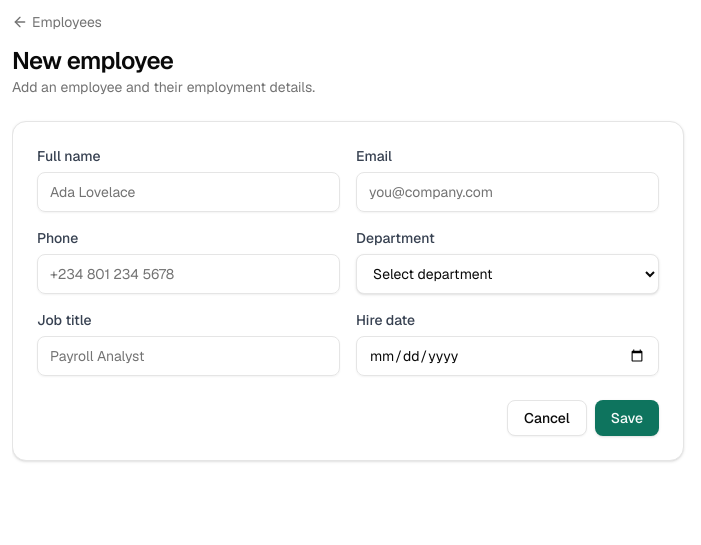
Scenario: new employee form › shows inline errors on an empty submit
Click the button "Save": {"x": 627, "y": 418} [595,400,659,436]
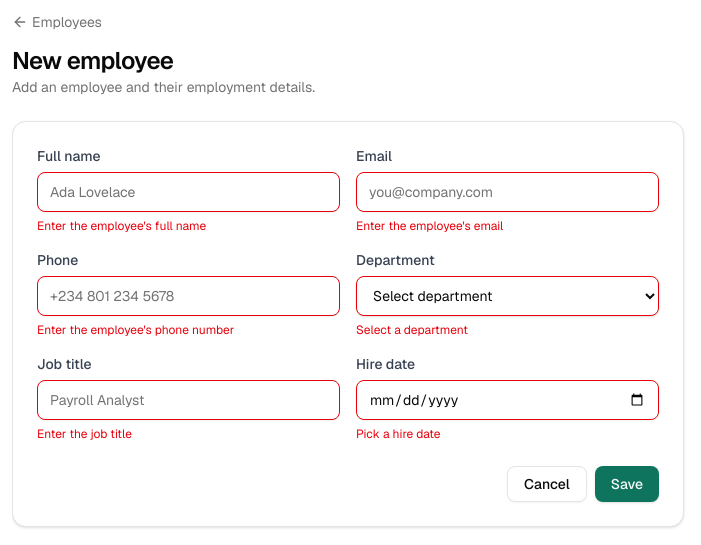
Expected: the text "Enter the employee's full name" is shown, [37,218,206,234]
Expected: the text "Enter the employee's email" is shown, [356,218,503,234]
Expected: the text "Enter the employee's phone number" is shown, [37,322,234,338]
